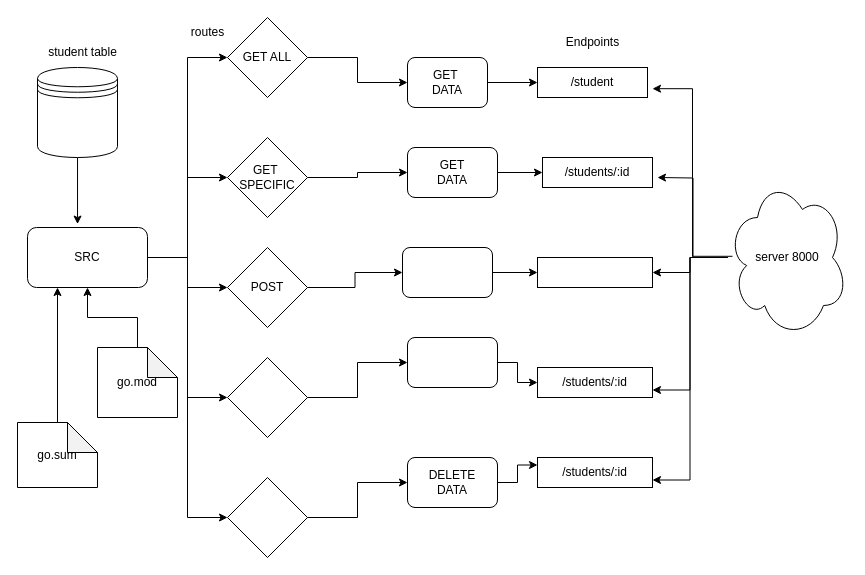
Image size: 865x575. Some labels were removed from this diagram. Each missing label, with the centre of its shape:
/students: pixel 594 272
CREATE DATA: pixel 447 272
DATABASE SQLite: pixel 77 112
DELETE: pixel 267 517
PUT: pixel 267 397
UPDATE DATA: pixel 452 362
